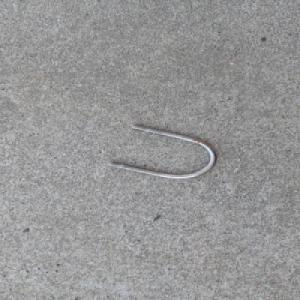ClampPart: (108, 124, 220, 179)
